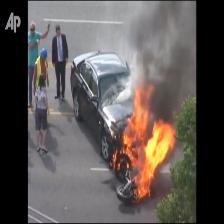fire: (106, 122, 181, 200), (125, 82, 166, 117)
smoke: (134, 4, 194, 74)
